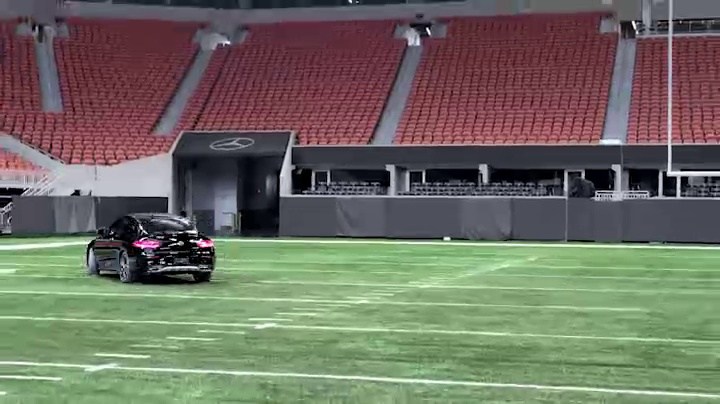amg: (80, 211, 216, 292)
